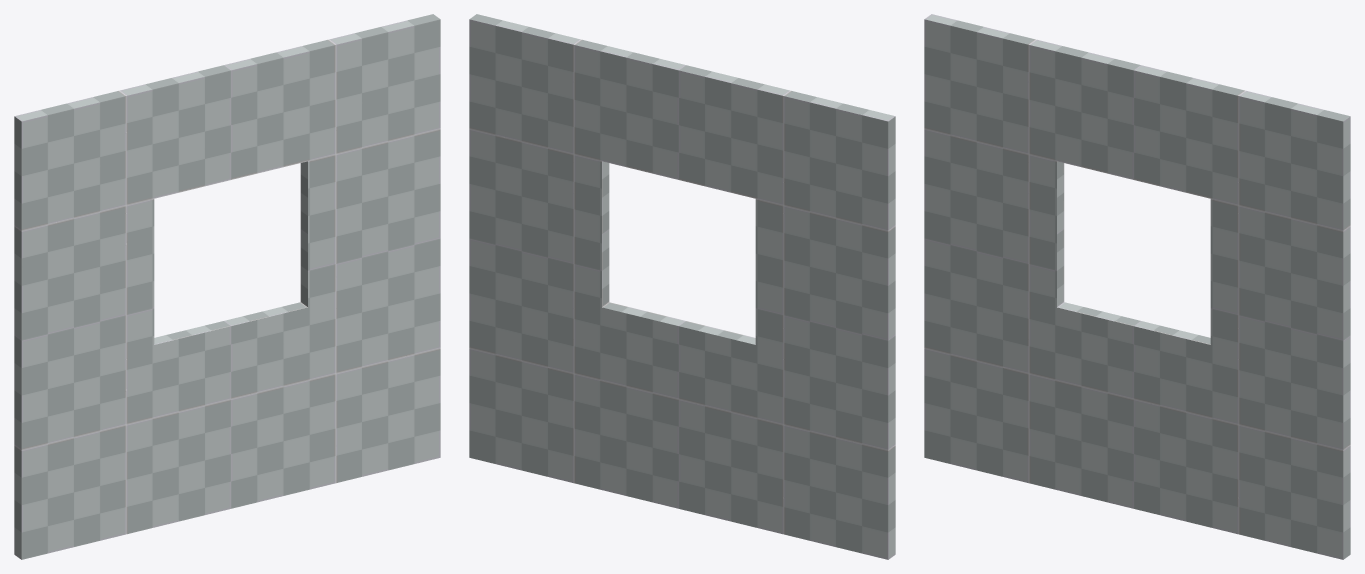
The model's file is PUN Default Modular Building Window.glb.
The picture shows the model from 3 angles, left to right: view 1: azimuth 30°, elevation 25°; view 2: azimuth 150°, elevation 25°; view 3: azimuth 330°, elevation 25°; orthographic projection.
Parts seen in each view (by area): view 1: Window; view 2: Window; view 3: Window.
Boxes of the visible parts, left/top/right/bottom form: Window: left=14, top=14, right=440, bottom=559; Window: left=469, top=14, right=895, bottom=559; Window: left=924, top=14, right=1350, bottom=559.
Bounding box in the file's own units: 2.5 × 2.5 × 0.075.
1 material, 1 textured.
